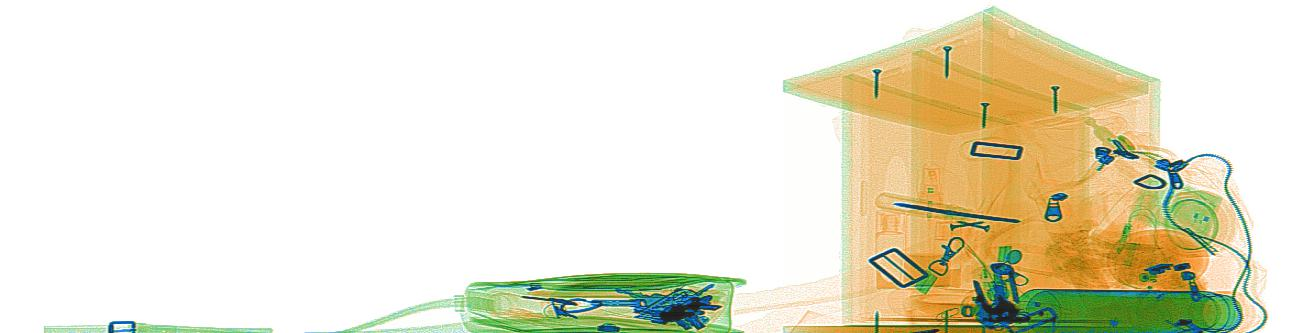plasticBottleWithaNozzle: (902, 164, 963, 289)
